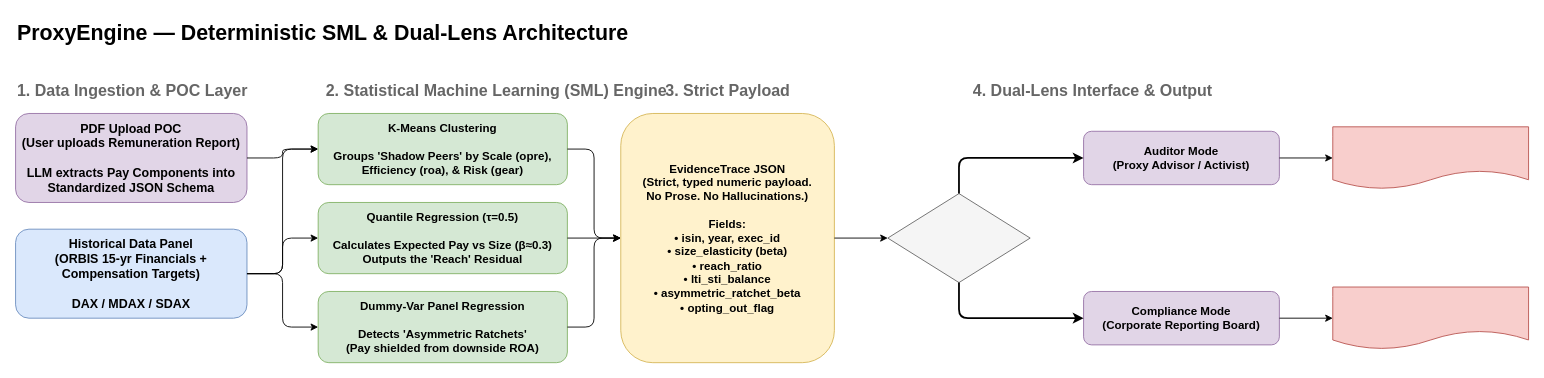
Some shapes in this 1544 by 378 pixel diagram are drawn without their labels. Each missing label, with the centre of its shape:
DCGK Compliance Warning & Defense Strategy: point 1430,317
Ruthless 'Vote Against' Proxy Recommendation: point 1430,157
UI Toggle (Select Lens): point 958,238
